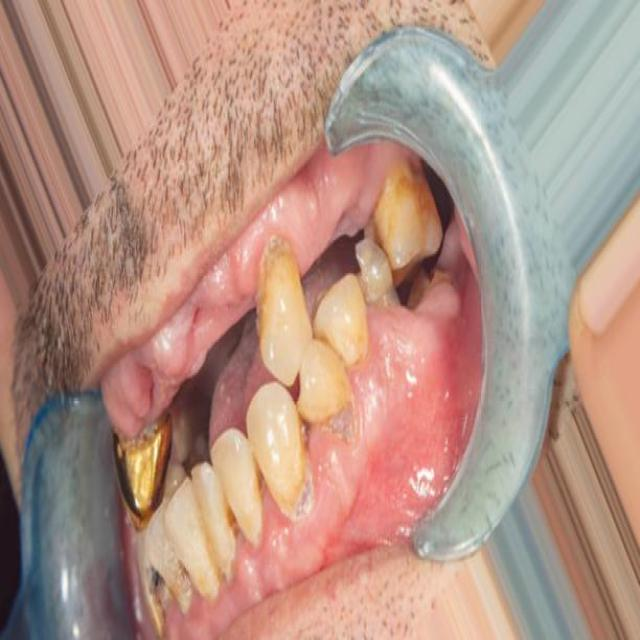caries: (350, 227, 408, 316)
